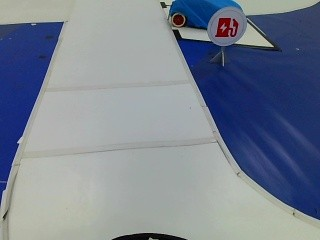battery: (208, 10, 242, 44)
car: (164, 0, 246, 28)
